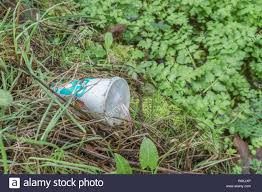paper_cup: (41, 76, 135, 126)
